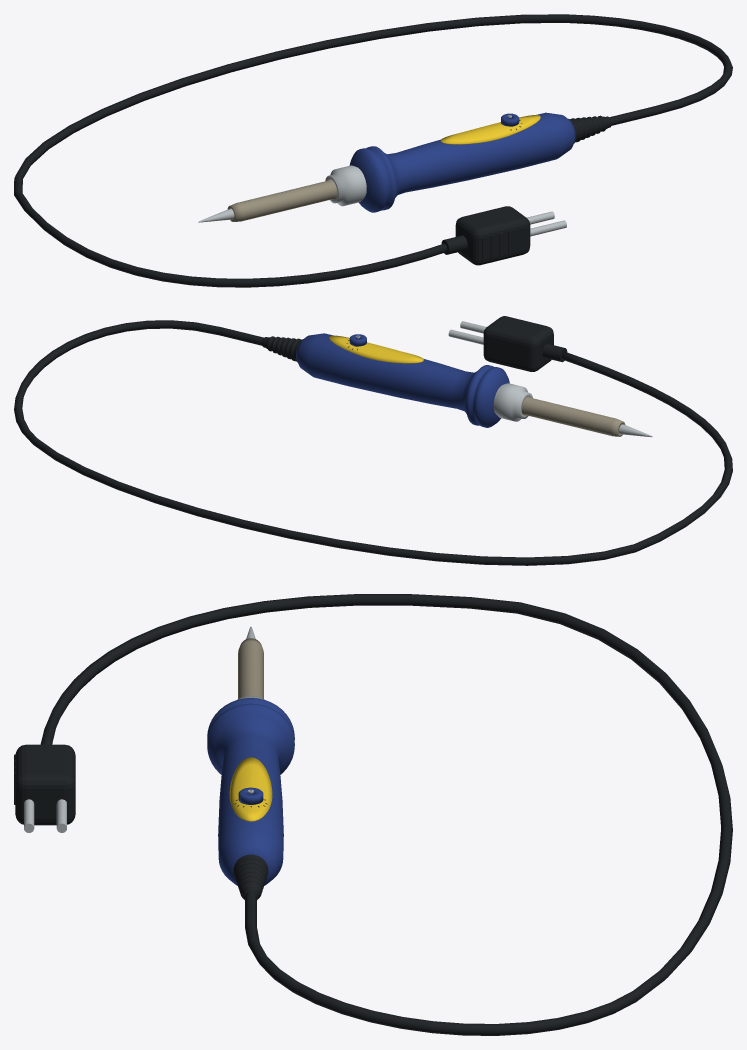
3 renders of one model, top to bottom at view 1: azimuth 30°, elevation 25°; view 2: azimuth 150°, elevation 25°; view 3: azimuth 270°, elevation 25°, orthographic. The views are drawn at different scales.
Visible parts, largest first — view 1: Complete loose power cord, Contoured grip with integral finger stop, Generic molded two-pin plug body, Open sleeve enclosing inserted tip, Curved elliptical control surround, Stepped retaining collar, Ribbed rear cable strain relief; view 2: Complete loose power cord, Contoured grip with integral finger stop, Generic molded two-pin plug body, Open sleeve enclosing inserted tip, Curved elliptical control surround, Stepped retaining collar, Ribbed rear cable strain relief; view 3: Complete loose power cord, Contoured grip with integral finger stop, Generic molded two-pin plug body, Curved elliptical control surround, Open sleeve enclosing inserted tip, Ribbed rear cable strain relief.
Part boxes in pixels (x1,y1,x2,y2): Complete loose power cord: (14, 14, 732, 287); Contoured grip with integral finger stop: (349, 112, 575, 212); Generic molded two-pin plug body: (455, 206, 530, 265); Open sleeve enclosing inserted tip: (227, 179, 337, 221); Curved elliptical control surround: (440, 115, 540, 144); Stepped retaining collar: (325, 165, 366, 206); Ribbed rear cable strain relief: (568, 115, 611, 143); Complete loose power cord: (14, 320, 732, 565); Contoured grip with integral finger stop: (296, 333, 509, 427); Generic molded two-pin plug body: (483, 316, 553, 371); Open sleeve enclosing inserted tip: (521, 396, 625, 436); Curved elliptical control surround: (329, 335, 423, 363); Stepped retaining collar: (493, 383, 532, 421); Ribbed rear cable strain relief: (262, 336, 302, 362); Complete loose power cord: (40, 594, 732, 1035); Contoured grip with integral finger stop: (207, 698, 294, 885); Generic molded two-pin plug body: (15, 744, 75, 825); Curved elliptical control surround: (229, 757, 272, 821); Open sleeve enclosing inserted tip: (238, 638, 263, 698); Ribbed rear cable strain relief: (233, 854, 268, 899).
Bounding box in the file's own units: 0.3855 × 0.0325 × 0.2624.
